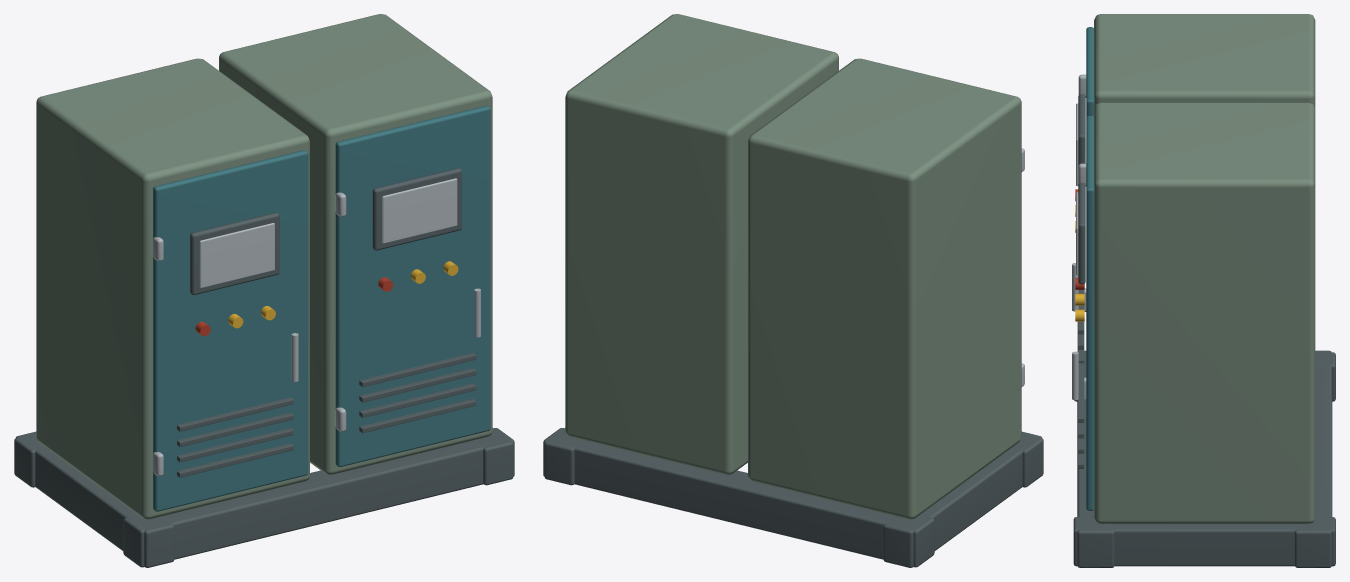
The model's file is control_cabinets.glb.
3 renders of one model, left to right at view 1: azimuth 30°, elevation 25°; view 2: azimuth 150°, elevation 25°; view 3: azimuth 270°, elevation 25°, orthographic.
Parts seen in each view (by area): view 1: control_cabinets_SPOT_sage_enamel, control_cabinets_SPOT_petrol_enamel, control_cabinets_SPOT_cast_iron, control_cabinets_SPOT_machined_steel, control_cabinets_SPOT_safety_yellow; view 2: control_cabinets_SPOT_sage_enamel, control_cabinets_SPOT_cast_iron; view 3: control_cabinets_SPOT_sage_enamel, control_cabinets_SPOT_cast_iron, control_cabinets_SPOT_petrol_enamel, control_cabinets_SPOT_machined_steel.
Part boxes in pixels (<box>): control_cabinets_SPOT_sage_enamel: <box>36,14,492,519</box>; control_cabinets_SPOT_petrol_enamel: <box>153,105,490,511</box>; control_cabinets_SPOT_cast_iron: <box>14,168,514,567</box>; control_cabinets_SPOT_machined_steel: <box>153,178,480,476</box>; control_cabinets_SPOT_safety_yellow: <box>228,261,458,328</box>; control_cabinets_SPOT_sage_enamel: <box>565,14,1021,519</box>; control_cabinets_SPOT_cast_iron: <box>543,428,1043,567</box>; control_cabinets_SPOT_sage_enamel: <box>1094,14,1315,523</box>; control_cabinets_SPOT_cast_iron: <box>1073,94,1335,567</box>; control_cabinets_SPOT_petrol_enamel: <box>1086,27,1093,510</box>; control_cabinets_SPOT_machined_steel: <box>1072,74,1086,400</box>.
Bounding box in the file's own units: 2.3 × 2.25 × 1.41.
